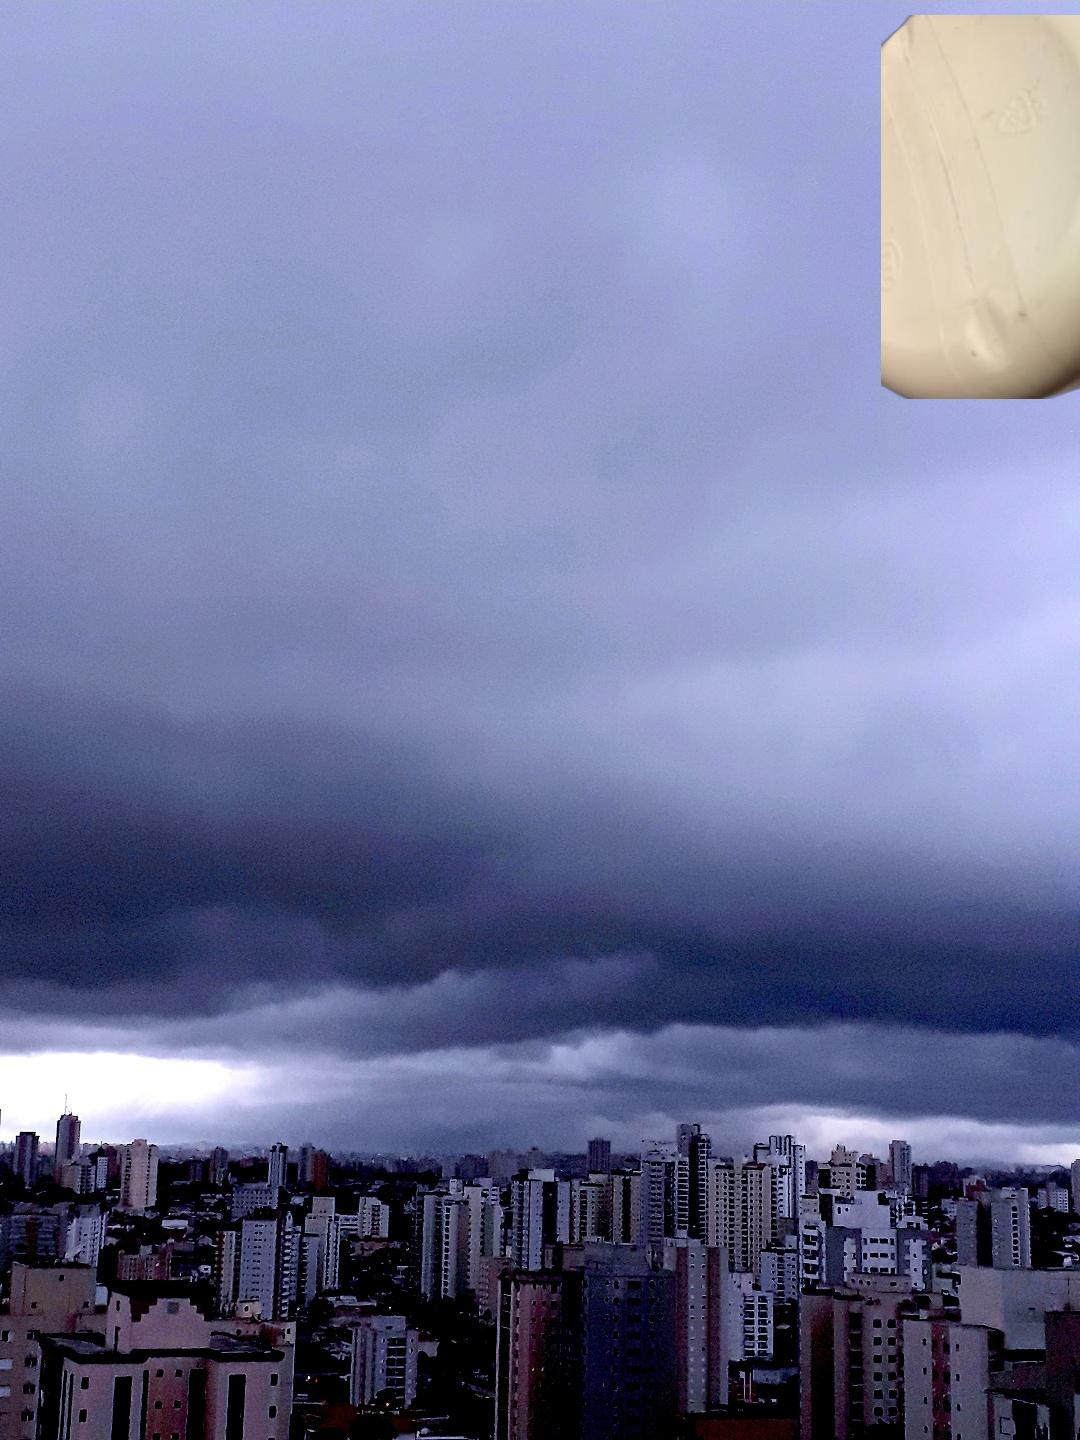metal-cans: (1009, 234, 1080, 755)
plastic-bottles: (881, 15, 1080, 399)
